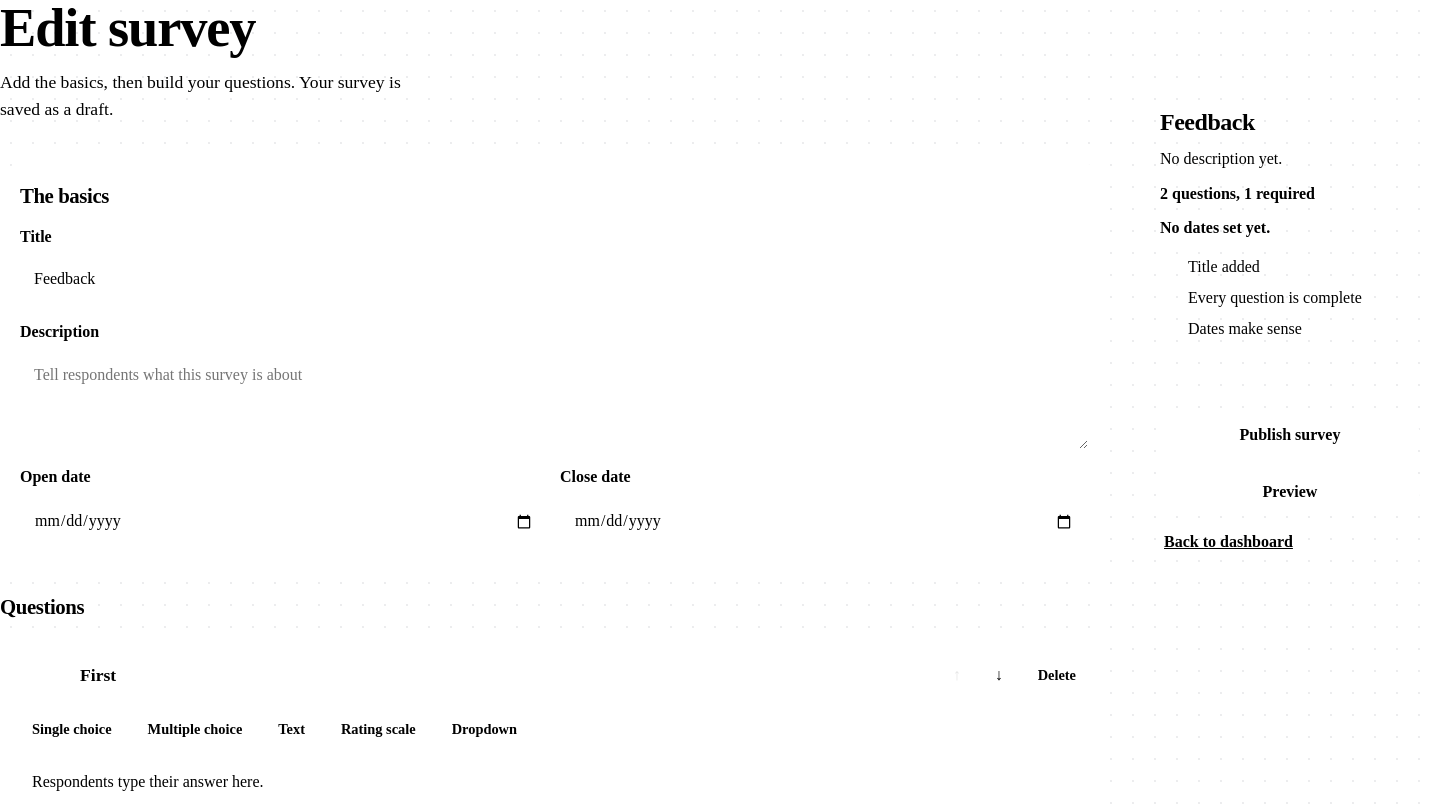
Test: CreateSurvey (builder) › treats a 404 on delete as already removed
Click the button "Delete" at {"x": 1057, "y": 676}, box [1024, 659, 1090, 693]
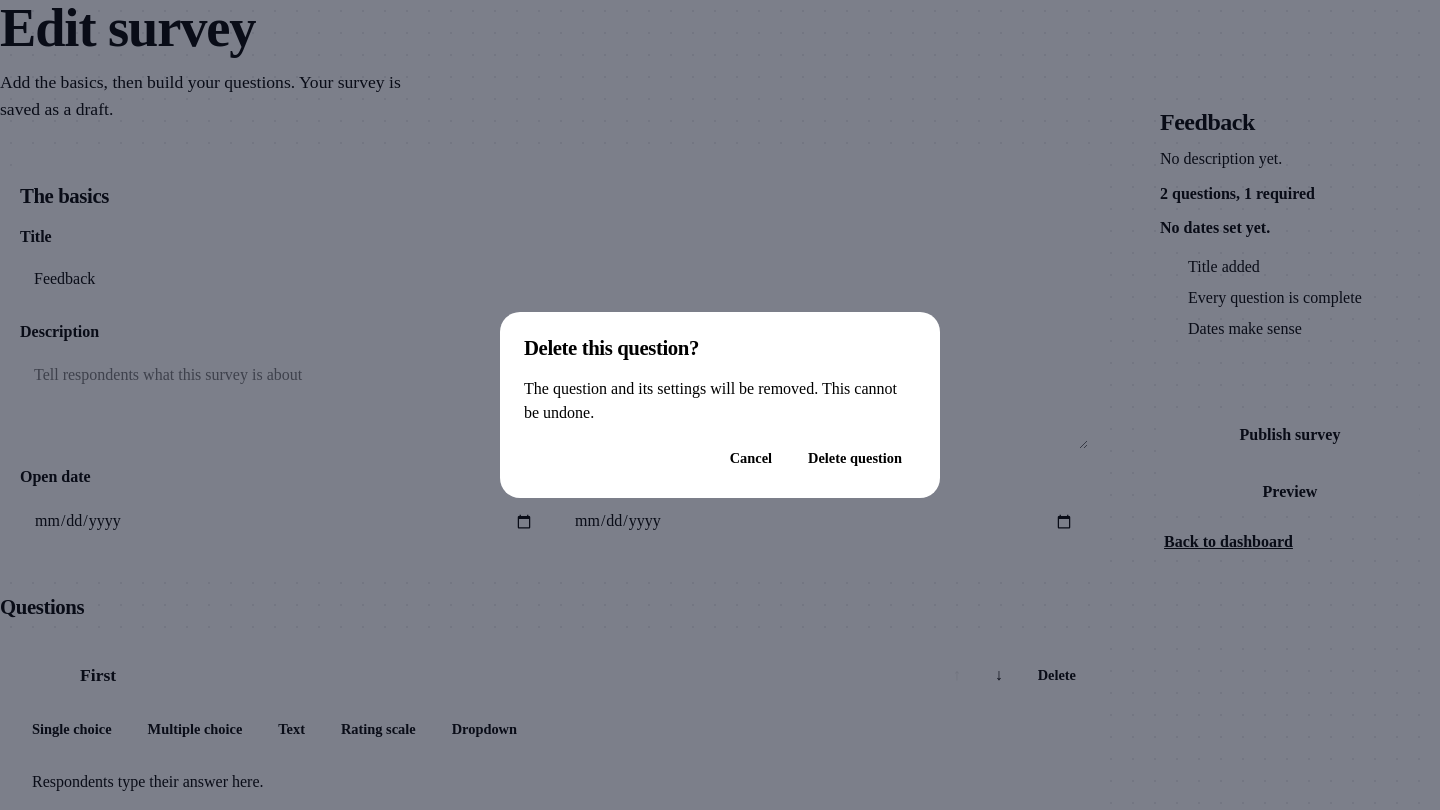
Click the button "Delete question" at {"x": 855, "y": 458}, box [794, 442, 916, 474]
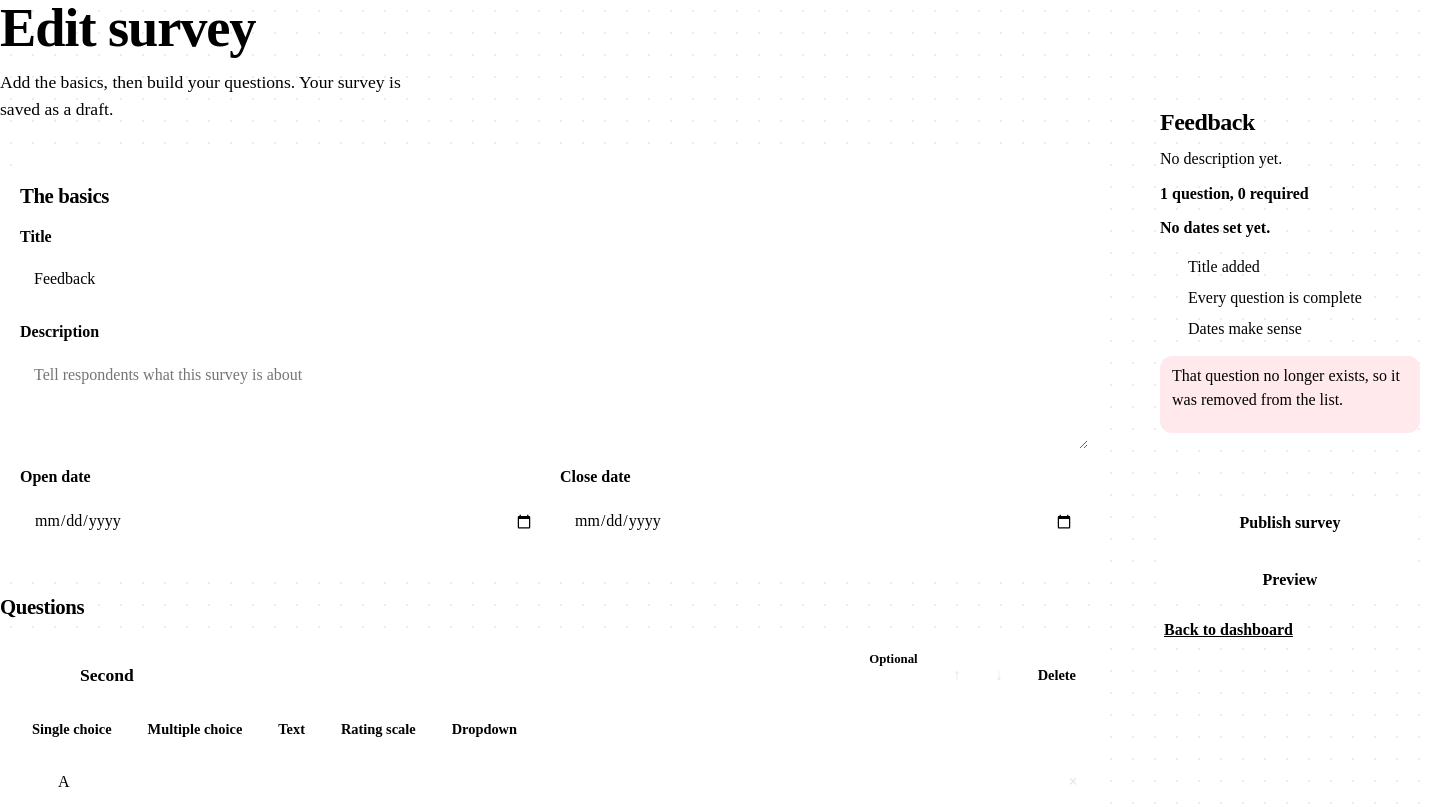
Check: the text "no longer exists" is shown, box [1172, 367, 1400, 408]
